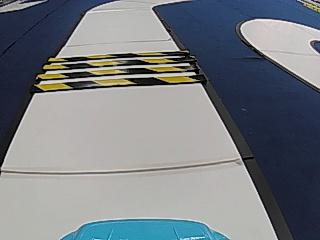bump: (31, 47, 206, 96)
